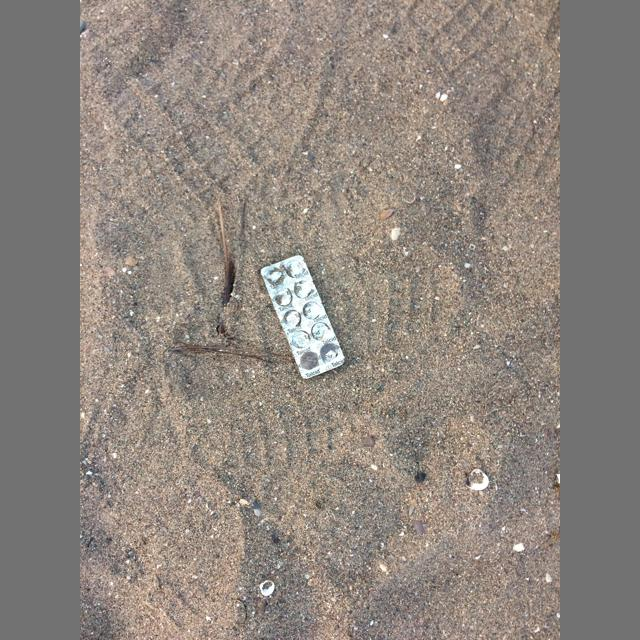litter: (261, 255, 345, 379)
